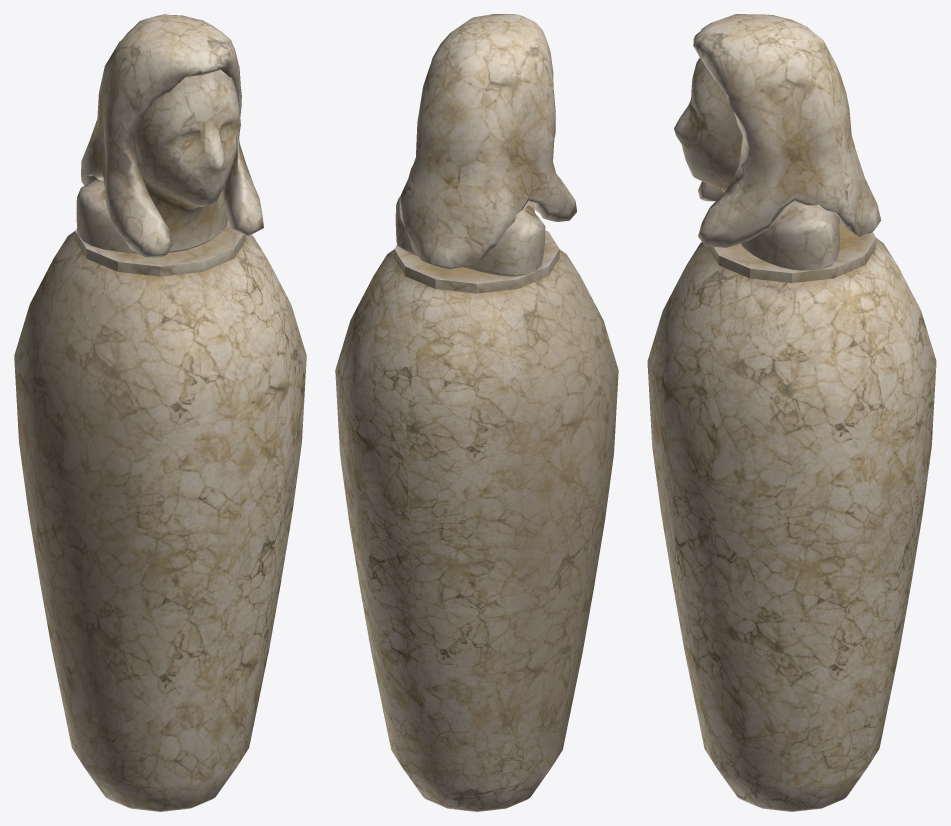
The model's file is vase3.fbx.
The picture shows the model from 3 angles, left to right: view 1: azimuth 30°, elevation 25°; view 2: azimuth 150°, elevation 25°; view 3: azimuth 270°, elevation 25°; orthographic projection. The views are drawn at different scales.
Parts seen in each view (by area): view 1: polySurface20, polySurface19; view 2: polySurface20, polySurface19; view 3: polySurface20, polySurface19.
Boxes of the visible parts, left/top/right/bottom form: polySurface20: left=14, top=220, right=306, bottom=811; polySurface19: left=76, top=14, right=263, bottom=258; polySurface20: left=335, top=230, right=618, bottom=811; polySurface19: left=395, top=14, right=576, bottom=276; polySurface20: left=647, top=219, right=936, bottom=811; polySurface19: left=674, top=14, right=881, bottom=270.
Size of the model in its own units: 1230 by 3590 by 1230.
